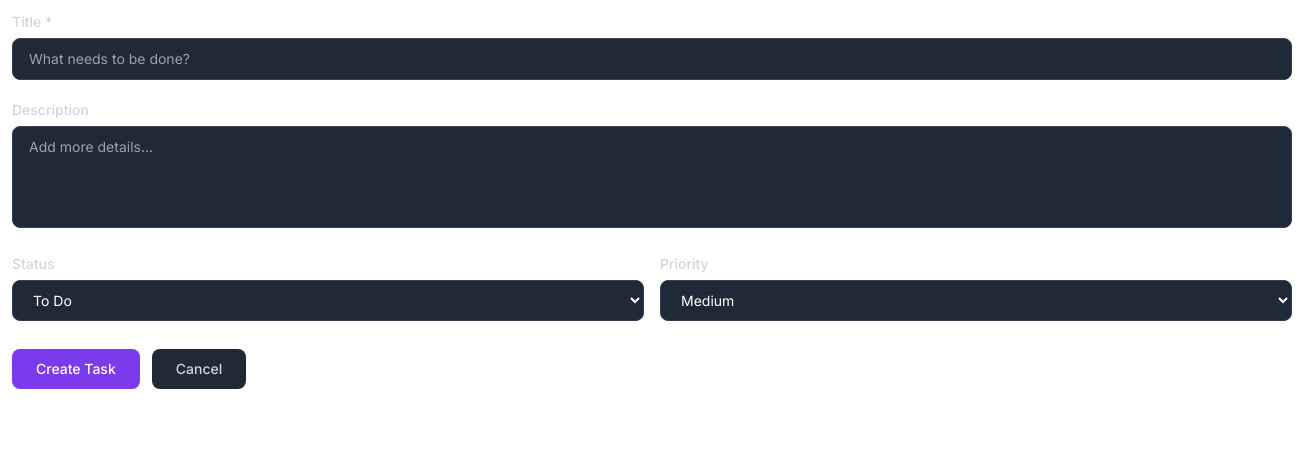
Scenario: TaskForm - Create › displays server error message on failure
Type "Test" into the field with placeholder "What needs to be done?" at (652, 59), box x1=12 y1=38 x2=1292 y2=80
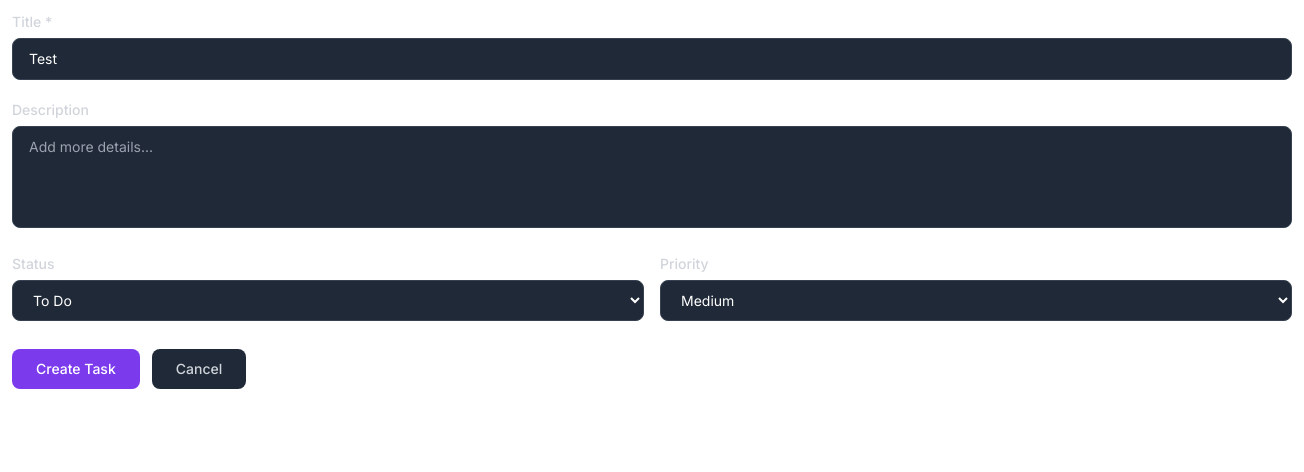
Submit the text "Create Task"
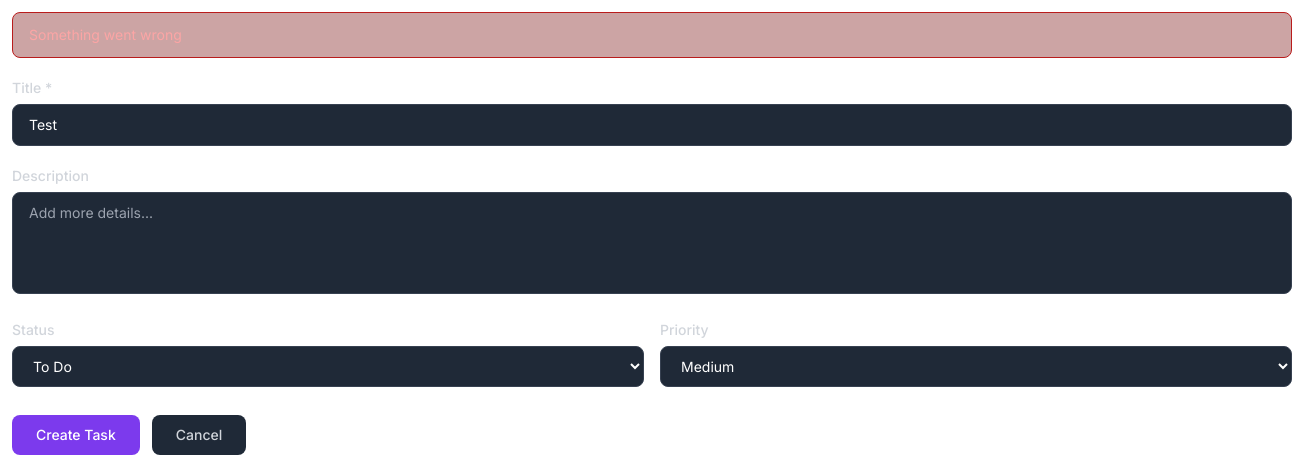
Expected: the text "Something went wrong" is shown, x1=12 y1=12 x2=1292 y2=58
